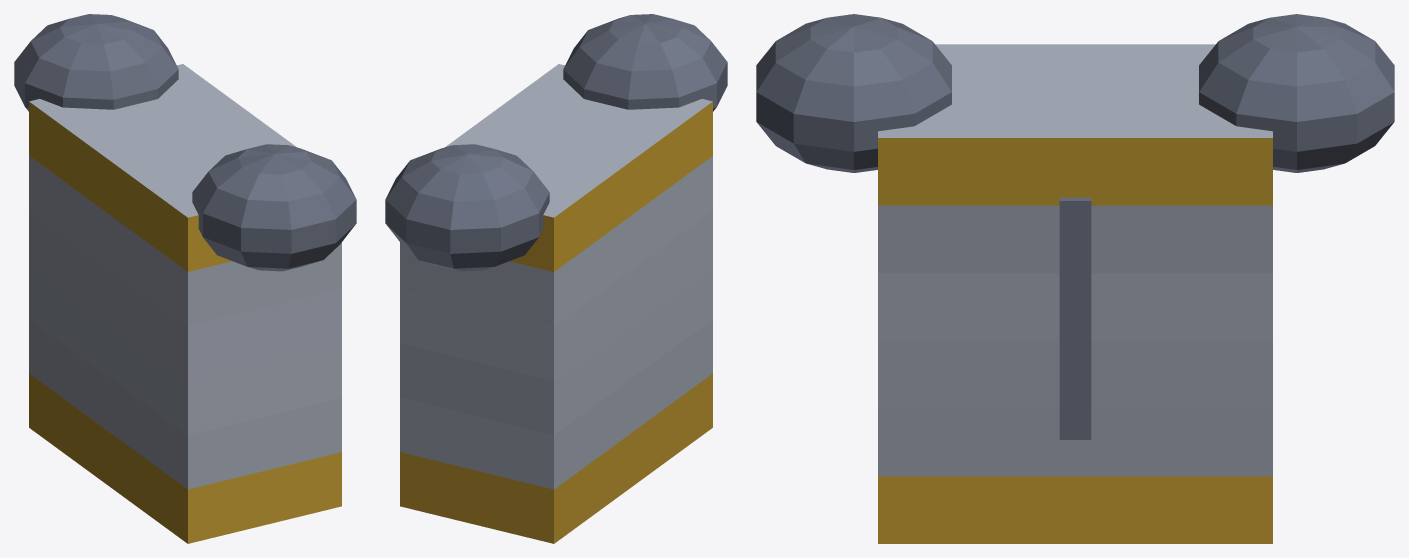
Rendered from i_chest.glb.
3 renders of one model, left to right at view 1: azimuth 30°, elevation 25°; view 2: azimuth 150°, elevation 25°; view 3: azimuth 270°, elevation 25°, orthographic. The views are drawn at different scales.
Visible parts, largest first — view 1: i_chest; view 2: i_chest; view 3: i_chest.
Part boxes in pixels (x1,y1,x2,y2): i_chest: [14, 14, 356, 543]; i_chest: [385, 14, 727, 543]; i_chest: [756, 14, 1394, 543].
Bounding box in the file's own units: 0.435 × 0.985 × 1.21.
